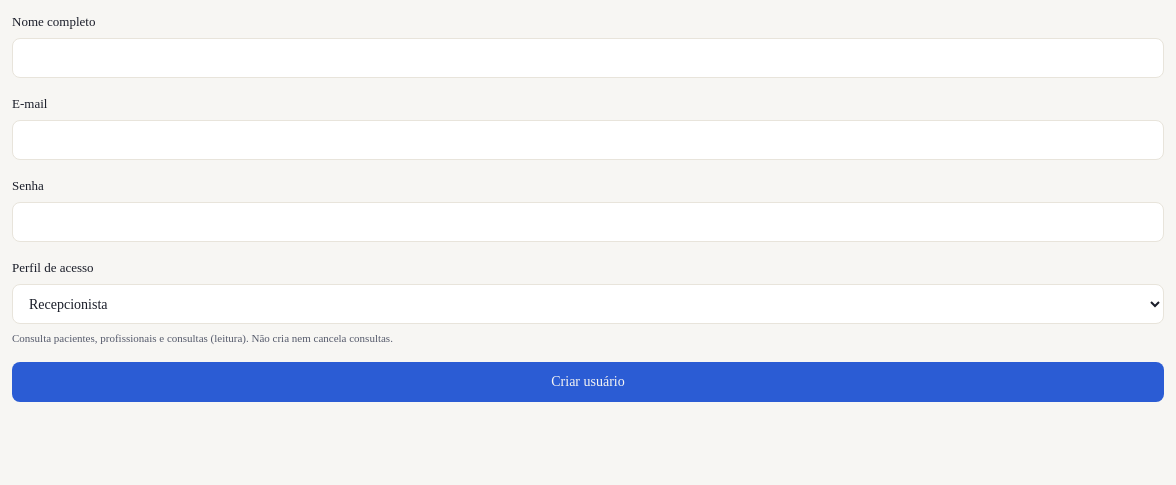
UserForm (integration) — create mode › shows validation errors for empty required fields
Step 1. Click the button with test id "user-form-submit" → coordinates (588, 382), box [12,362,1164,402]
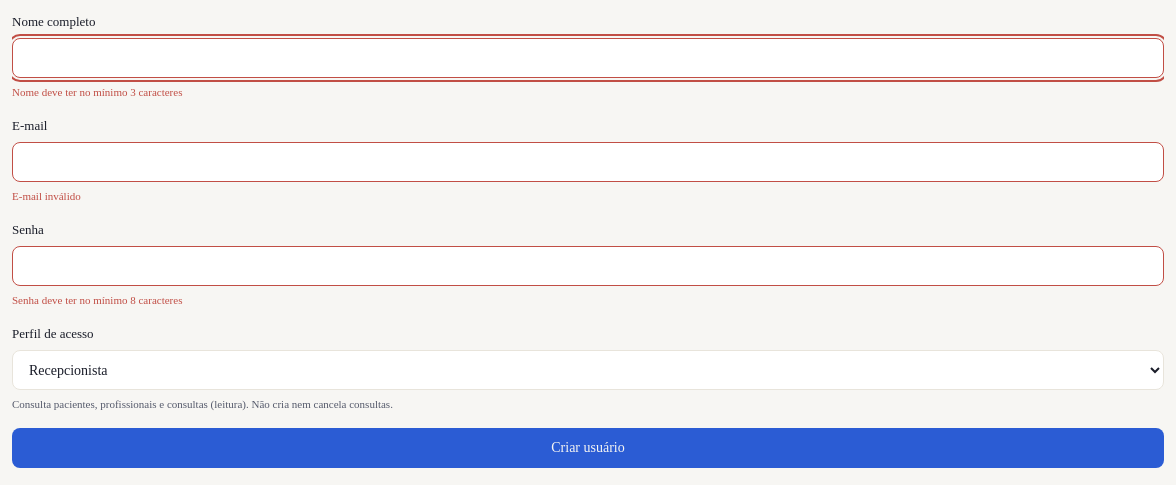
Expected: the text "Nome deve ter no mínimo 3 caracteres" is shown, [12,86,182,98]
